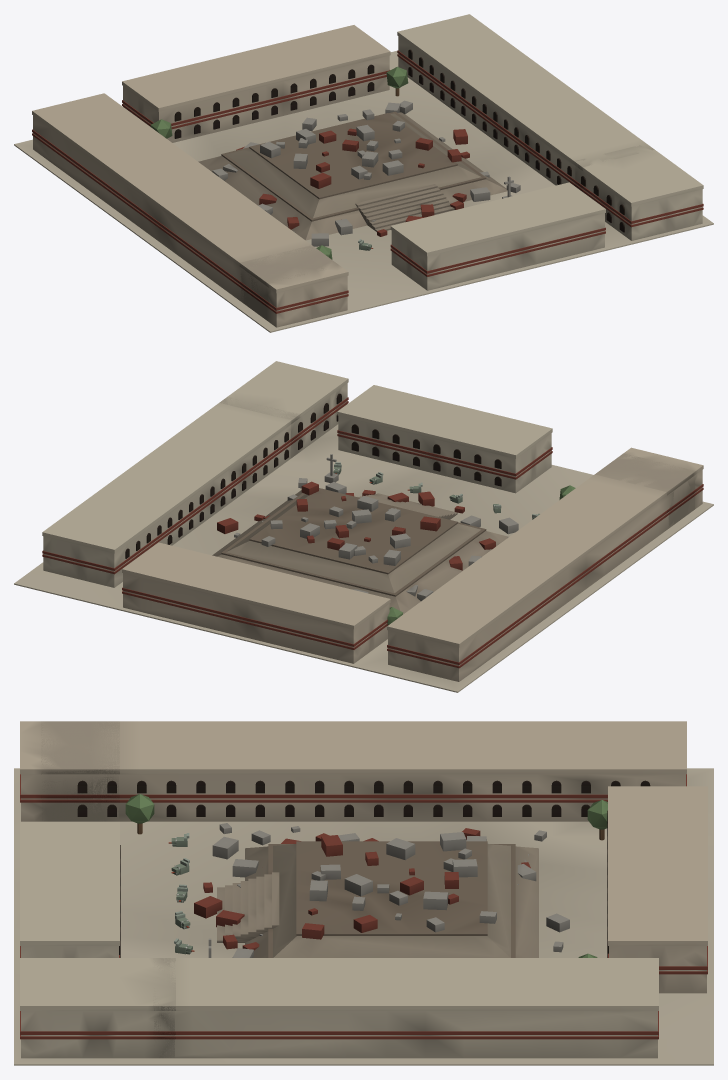
File: templo-mayor-1620.glb
3 renders of one model, top to bottom at view 1: azimuth 30°, elevation 25°; view 2: azimuth 150°, elevation 25°; view 3: azimuth 270°, elevation 25°, orthographic. The views are drawn at different scales.
Parts seen in each view (by area): view 1: p2_houses, p0_ruin, p1_rubble; view 2: p2_houses, p0_ruin, p1_rubble; view 3: p2_houses, p0_ruin, p1_rubble.
Boxes of the visible parts, box(x1,y1,x2,y2) form: p2_houses: box(32, 14, 703, 327); p0_ruin: box(14, 51, 713, 332); p1_rubble: box(212, 100, 520, 250); p2_houses: box(42, 361, 703, 681); p0_ruin: box(14, 424, 713, 692); p1_rubble: box(217, 462, 539, 601); p2_houses: box(20, 721, 707, 1058); p0_ruin: box(14, 768, 713, 1065); p1_rubble: box(168, 823, 569, 957).
Bounding box in the file's own units: 100 × 8.55 × 100.
